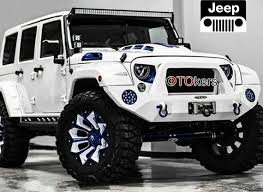mobil: (2, 10, 259, 178)
